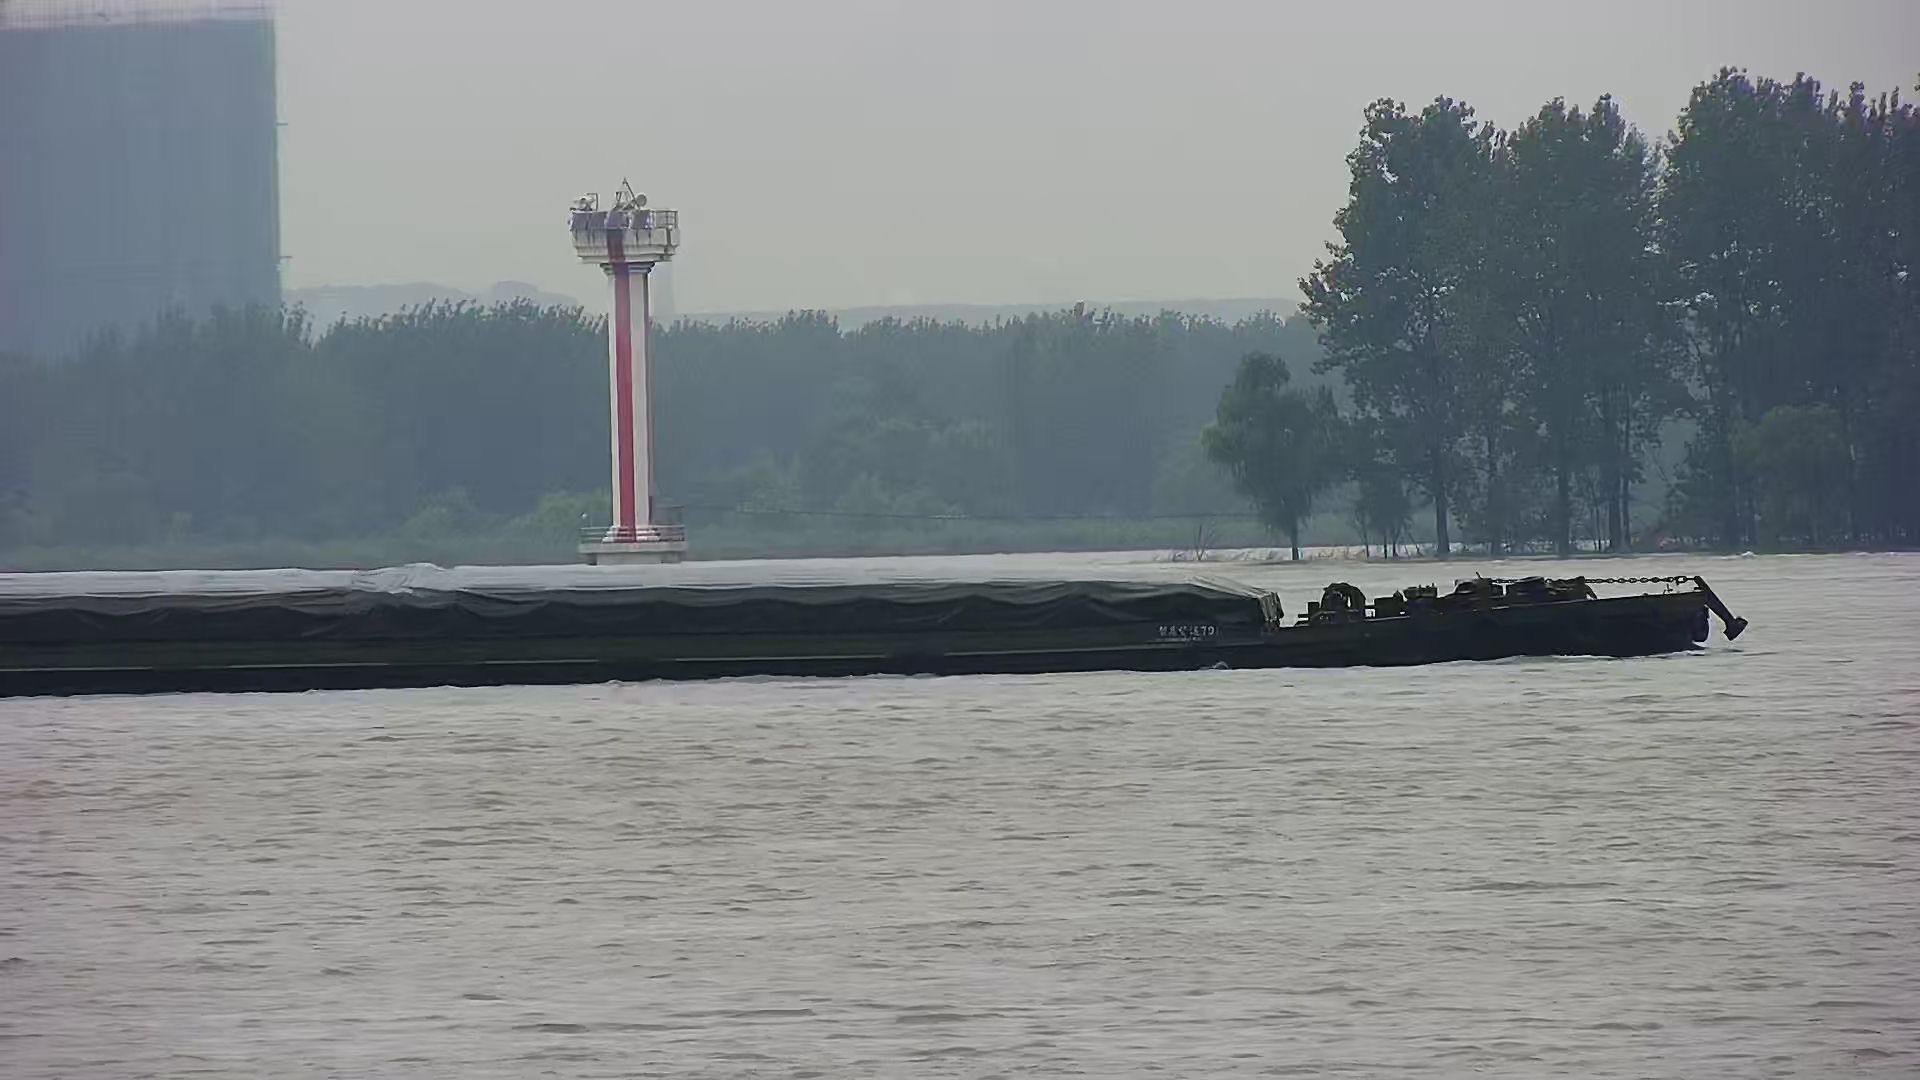platform: (572, 179, 686, 567)
ship: (1, 574, 1750, 692)
tree: (1414, 83, 1683, 554), (1604, 55, 1841, 554), (1681, 73, 1920, 555), (1300, 92, 1524, 556), (1205, 352, 1338, 559)
